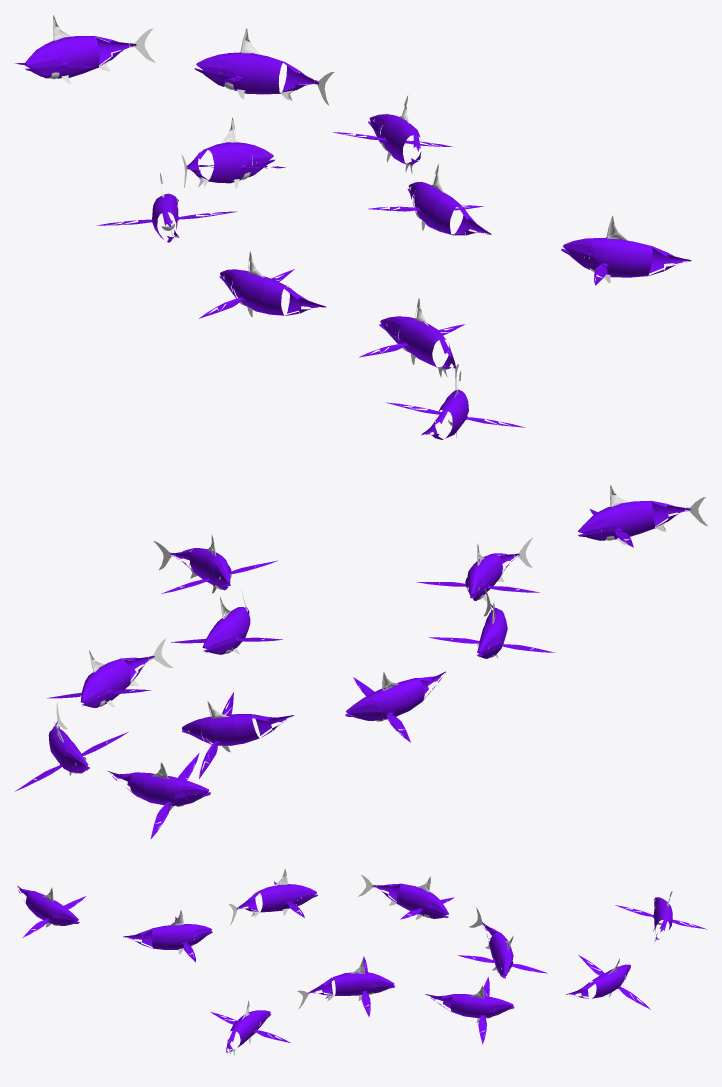
Rendered from fish.gltf.
3 renders of one model, top to bottom at view 1: azimuth 30°, elevation 25°; view 2: azimuth 150°, elevation 25°; view 3: azimuth 270°, elevation 25°, orthographic. The views are drawn at different scales.
Parts seen in each view (by area): view 1: Group_077, Group_039, Group_096, Group_058, Group_020, Group_153, Group_115, Group_001, Group_172, Group_067, Group_048, Group_134 (+1 smaller); view 2: Group_172, Group_153, Group_134, Group_058, Group_001, Group_077, Group_115, Group_020, Group_181, Group_029, Group_143, Group_067 (+2 smaller); view 3: Group_115, Group_096, Group_020, Group_001, Group_134, Group_039, Group_172, Group_077, Group_153, Group_058, Group_181, Group_143.
Part boxes in pixels (x1,y1,x2,y2): Group_077: (591,238,691,277); Group_039: (226,52,319,94); Group_096: (233,270,326,315); Group_058: (44,36,136,78); Group_020: (414,183,491,235); Group_153: (186,142,251,183); Group_115: (399,316,455,370); Group_001: (381,115,421,164); Group_172: (421,390,468,439); Group_067: (24,45,62,78); Group_048: (194,53,234,86); Group_134: (152,194,179,242); Group_172: (599,500,690,539); Group_153: (200,714,293,745); Group_134: (370,671,445,719); Group_058: (108,771,181,806); Group_001: (85,656,154,704); Group_077: (169,548,227,586); Group_115: (467,553,519,594); Group_020: (214,607,250,651); Group_181: (578,511,615,540); Group_029: (202,625,235,654); Group_143: (345,694,384,720); Group_067: (173,779,210,806); Group_115: (123,924,193,949); Group_096: (236,884,297,912); Group_020: (307,971,373,995); Group_001: (425,994,493,1017); Group_134: (372,883,437,916); Group_039: (566,966,625,998); Group_172: (17,885,62,923); Group_077: (226,1011,259,1053); Group_153: (481,923,513,967); Group_058: (653,900,672,940); Group_181: (51,905,79,925); Group_143: (422,897,448,918).
Bounding box in the file's own units: 380 × 81.38 × 696.
